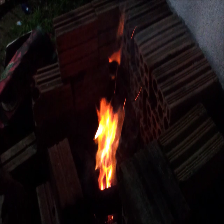fire_h: (93, 97, 127, 190)
fire_l: (108, 48, 121, 64), (134, 87, 144, 100), (131, 25, 138, 39), (108, 213, 114, 221)
